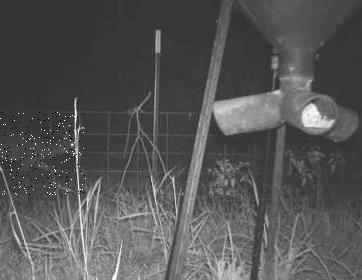Deer: (0, 112, 86, 196)
